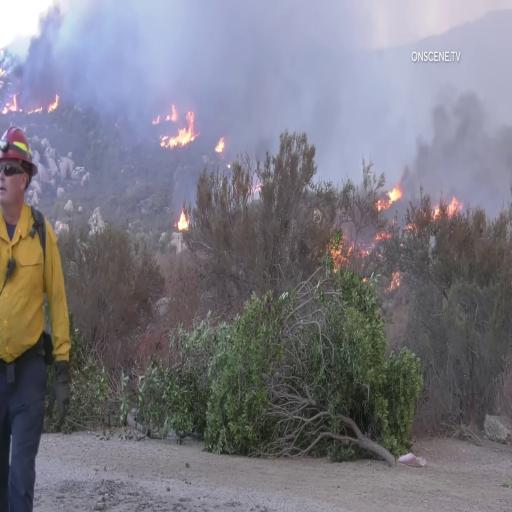fire: (160, 110, 196, 148)
smoke: (406, 92, 512, 196)
